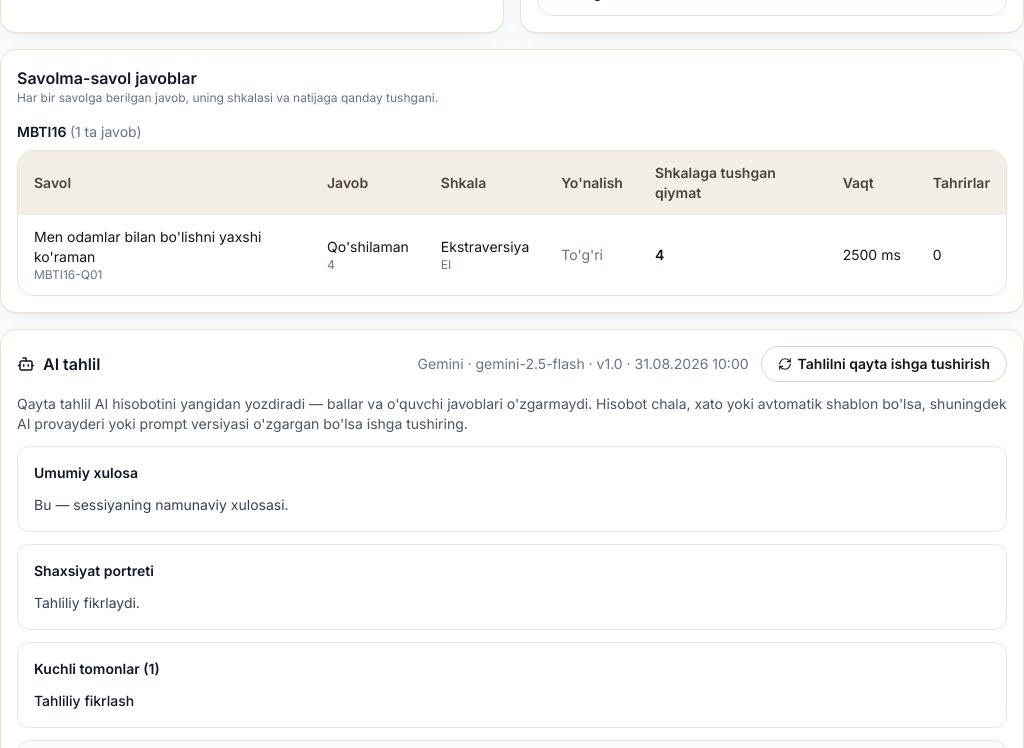
Test: AssessmentDetailPage › ruxsat etilmagan holatda (409) sabab ko'rsatiladi
The image size is (1024, 748).
(page scrolled)
What coordinates should you click on to do the following:
click the button "Tahlilni qayta ishga tushirish"
I would click on:
 (884, 364)
Its box is left=761, top=346, right=1007, bottom=382.
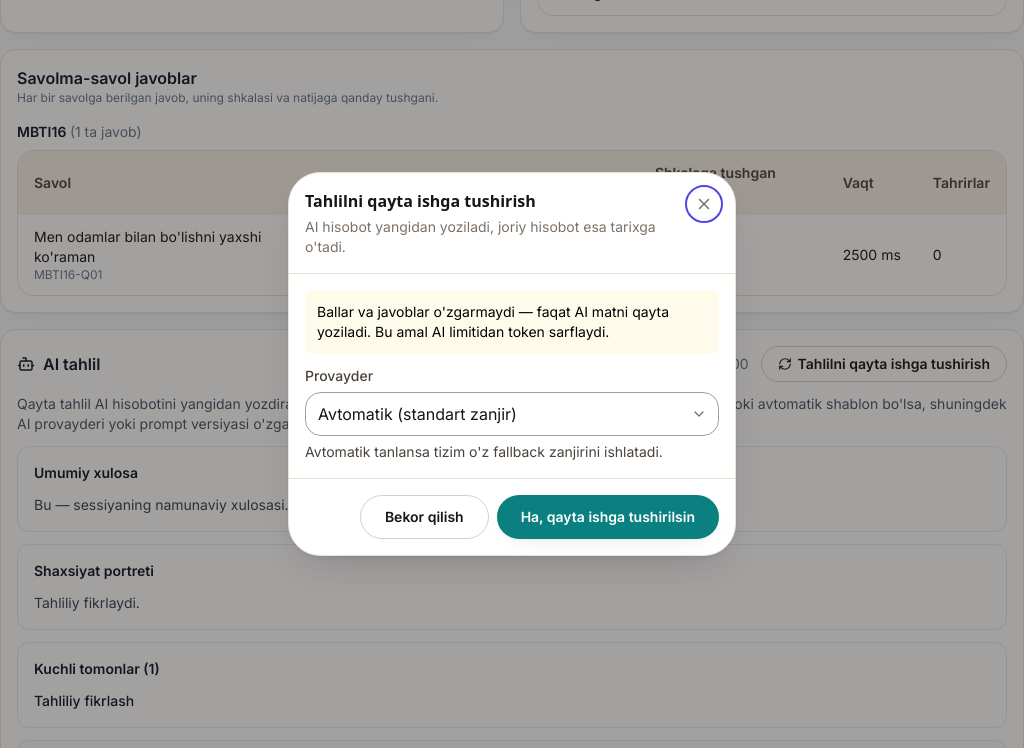
What coordinates should you click on to do the following:
click the button "Ha, qayta ishga tushirilsin"
I would click on:
 (608, 517)
Its box is left=497, top=495, right=719, bottom=539.
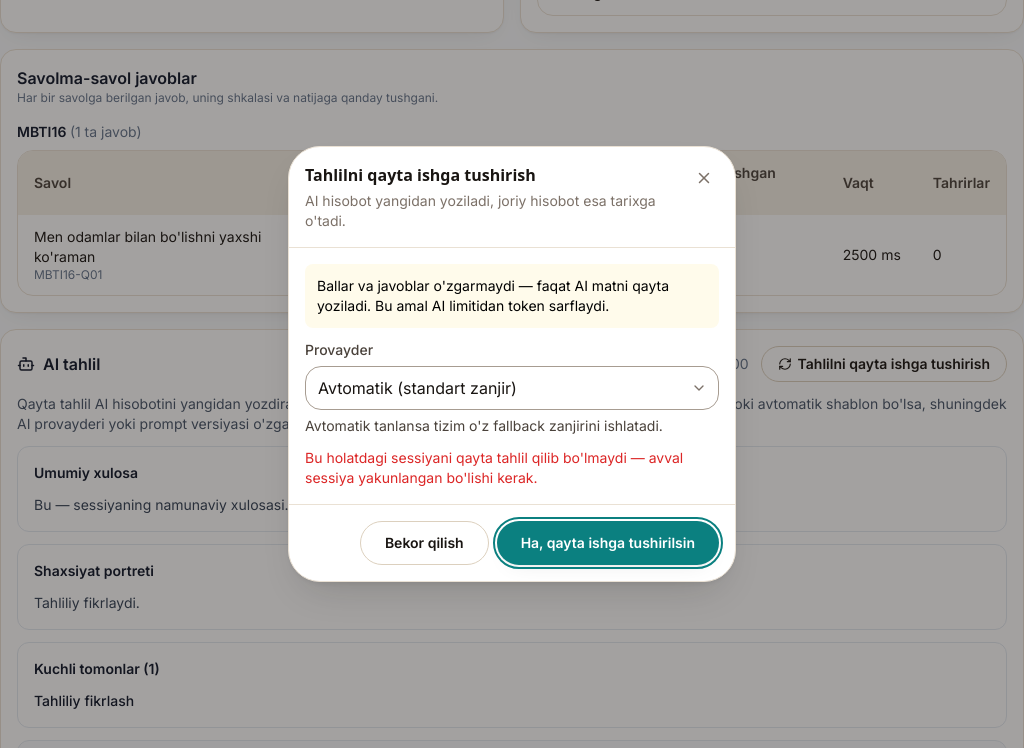
Result: the text "Bu holatdagi sessiyani qayta tahlil qilib bo'lmaydi" is shown at left=305, top=449, right=683, bottom=486
